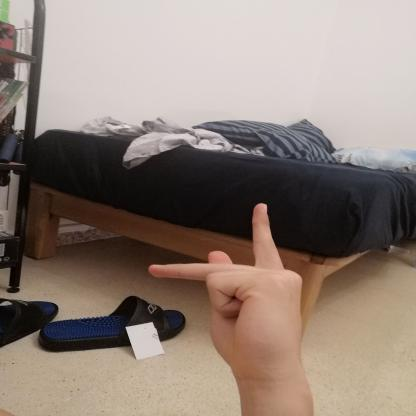DHAA: (136, 193, 318, 390)
